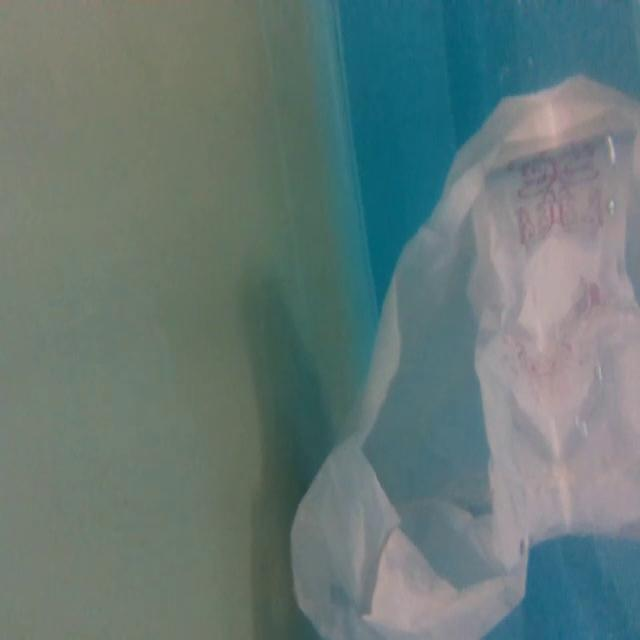plastic bags: (284, 70, 640, 640)
